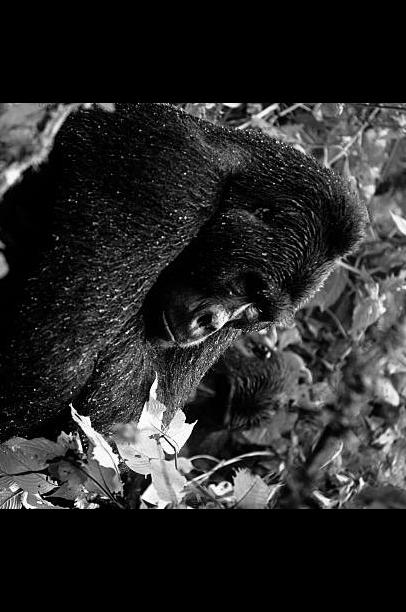goriile_montagne: (0, 115, 390, 509)
